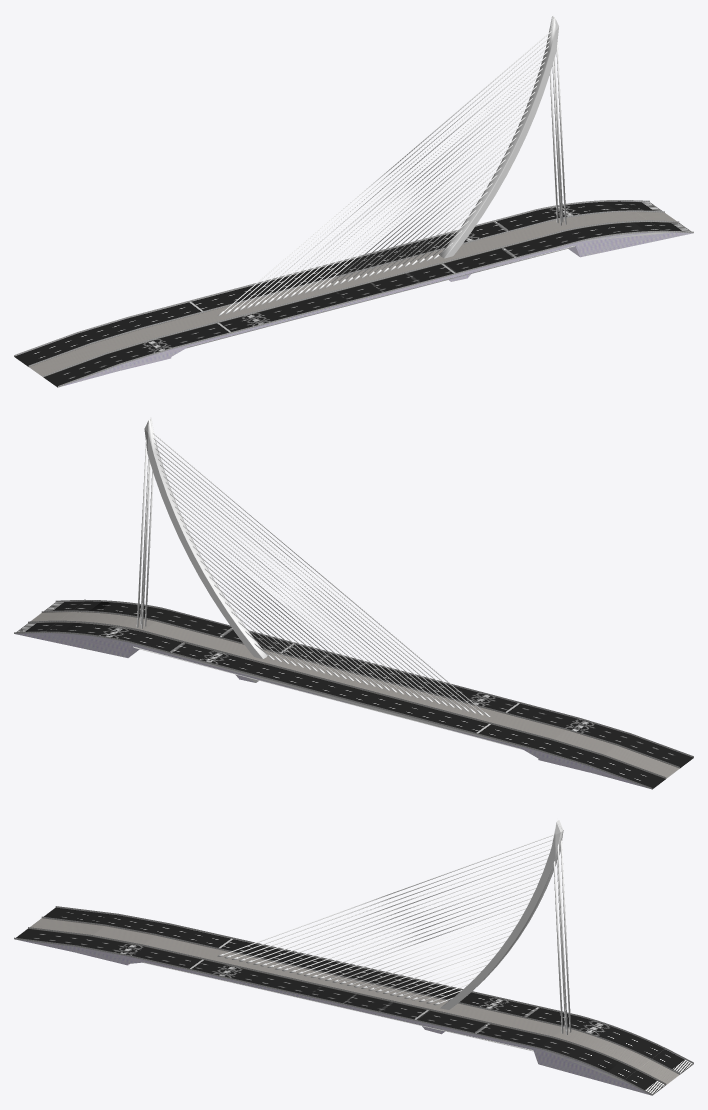
Rendered from PIIE_AR_FBX031_ASSUT.fbx.
3 renders of one model, top to bottom at view 1: azimuth 30°, elevation 25°; view 2: azimuth 150°, elevation 25°; view 3: azimuth 330°, elevation 25°, orthographic.
Visible parts, largest first — view 1: PIIE_AR_MO031_ASSUT; view 2: PIIE_AR_MO031_ASSUT; view 3: PIIE_AR_MO031_ASSUT.
Boxes of the visible parts, x1,y1,x2,y2 form: PIIE_AR_MO031_ASSUT: (14, 15, 693, 387); PIIE_AR_MO031_ASSUT: (14, 417, 693, 789); PIIE_AR_MO031_ASSUT: (14, 819, 693, 1095).
Size of the model in its own units: 204 by 70.47 by 23.79.
1 material, 1 textured.
